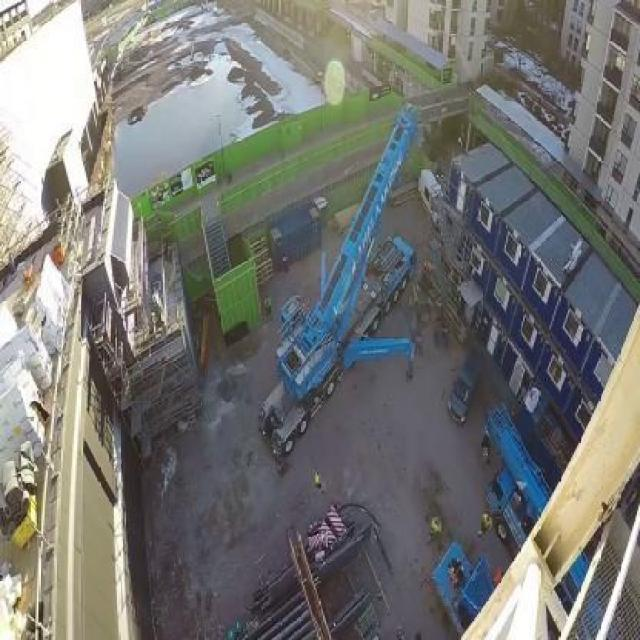Mobile Crane: (255, 97, 416, 461)
